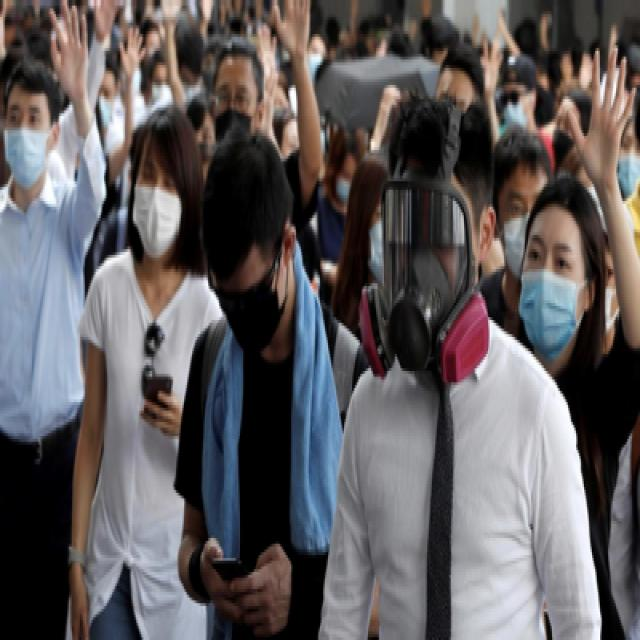mask: (382, 195, 480, 371), (520, 229, 589, 357), (218, 255, 284, 357), (133, 156, 184, 252), (501, 178, 547, 274), (5, 99, 50, 181), (212, 76, 258, 144), (554, 110, 584, 170), (499, 80, 531, 136), (616, 124, 640, 196)
